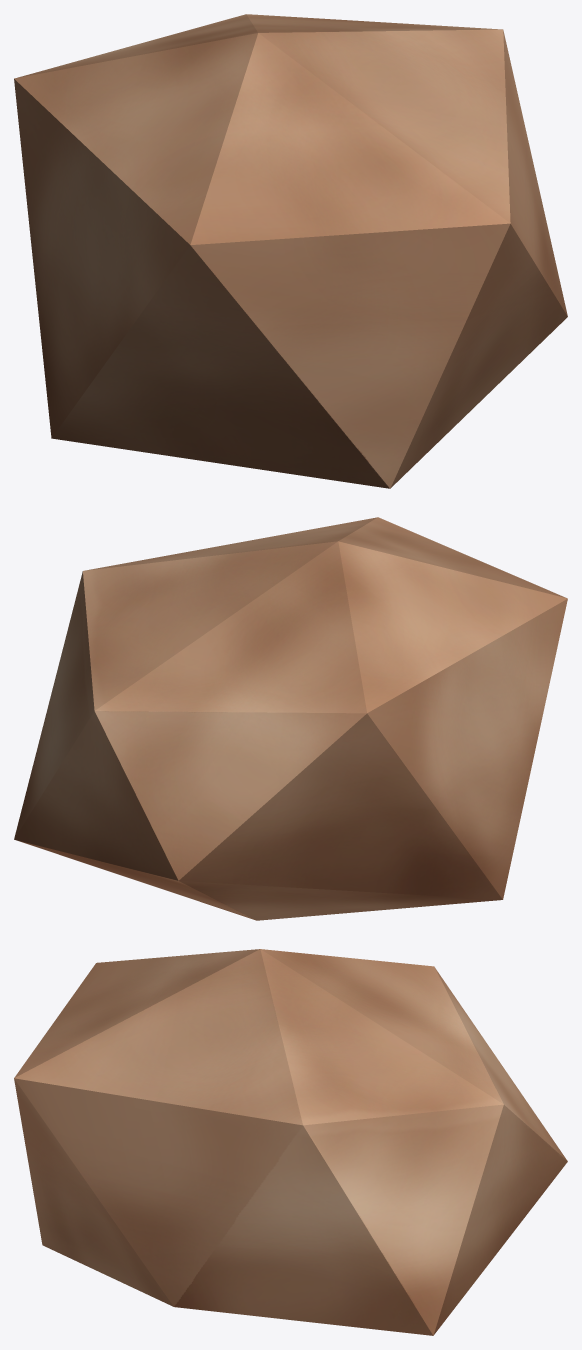
File: rock test.fbx
3 renders of one model, top to bottom at view 1: azimuth 30°, elevation 25°; view 2: azimuth 150°, elevation 25°; view 3: azimuth 270°, elevation 25°, orthographic. The views are drawn at different scales.
Visible parts, largest first — view 1: Icosphere; view 2: Icosphere; view 3: Icosphere.
Part boxes in pixels (x1=…): Icosphere: x1=14, y1=14, x2=567, y2=488; Icosphere: x1=14, y1=517, x2=567, y2=920; Icosphere: x1=14, y1=949, x2=567, y2=1335.
Bounding box in the file's own units: 56.48 × 47.93 × 69.71.
1 material, 1 textured.
